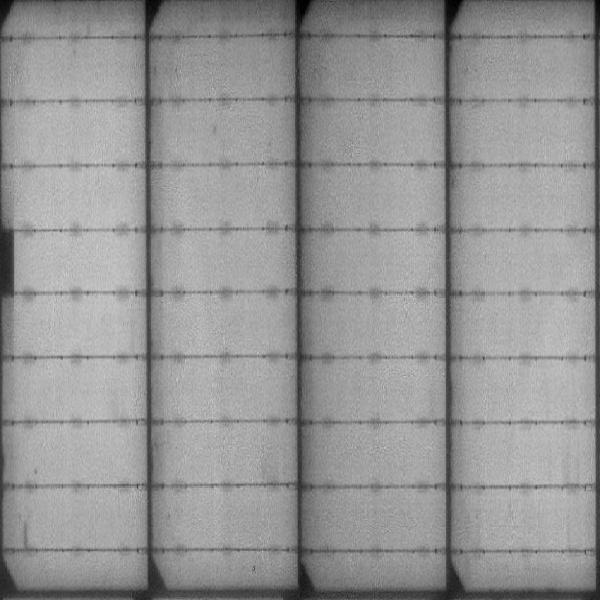black_border: (1, 224, 16, 308)
